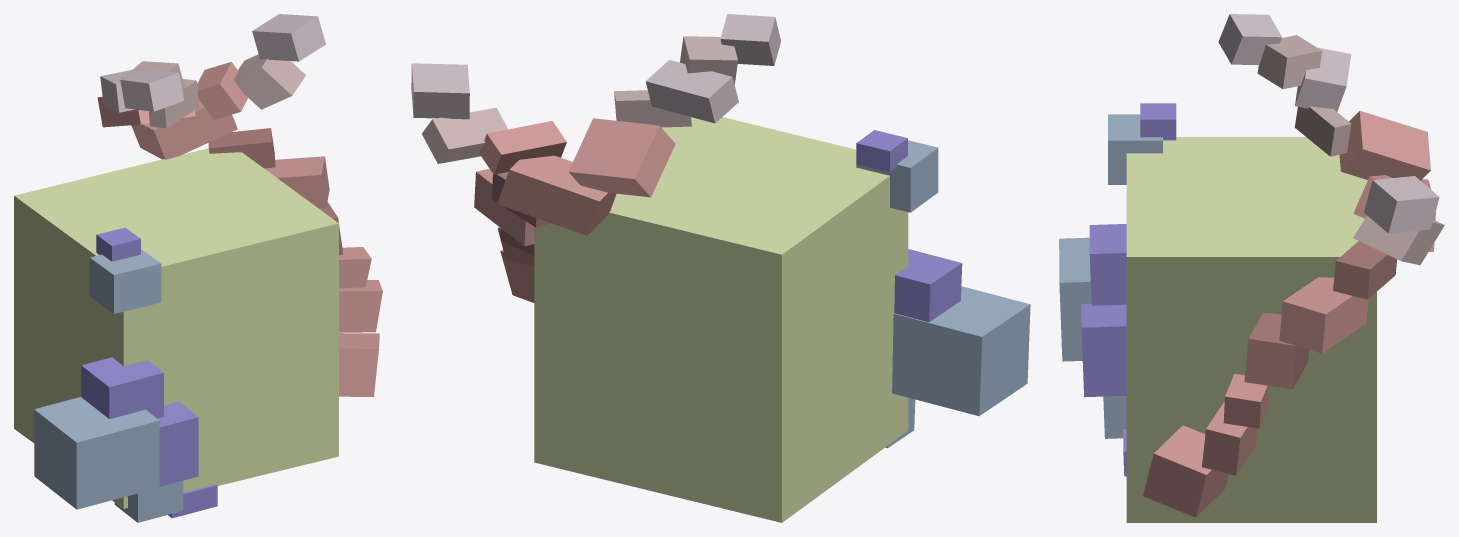
Rendered from 04_28 sky env.fbx.
3 renders of one model, left to right at view 1: azimuth 30°, elevation 25°; view 2: azimuth 150°, elevation 25°; view 3: azimuth 270°, elevation 25°, orthographic. The views are drawn at different scales.
Parts seen in each view (by area): view 1: sky_env_model; view 2: sky_env_model; view 3: sky_env_model.
Boxes of the visible parts, box(x1,y1,x2,y2) form: sky_env_model: box(14, 14, 382, 522); sky_env_model: box(411, 14, 1030, 522); sky_env_model: box(1059, 14, 1444, 522).
Bounding box in the file's own units: 20.38 × 19.54 × 15.15.
